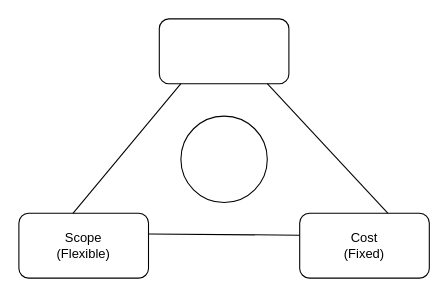
Image size: 448x297. Some labels were removed from this diagram. Here are the shapes that lost their labels. From the top down, the centre of each, then its label:
[223,51]: Time (Fixed)
[223,158]: Quality
